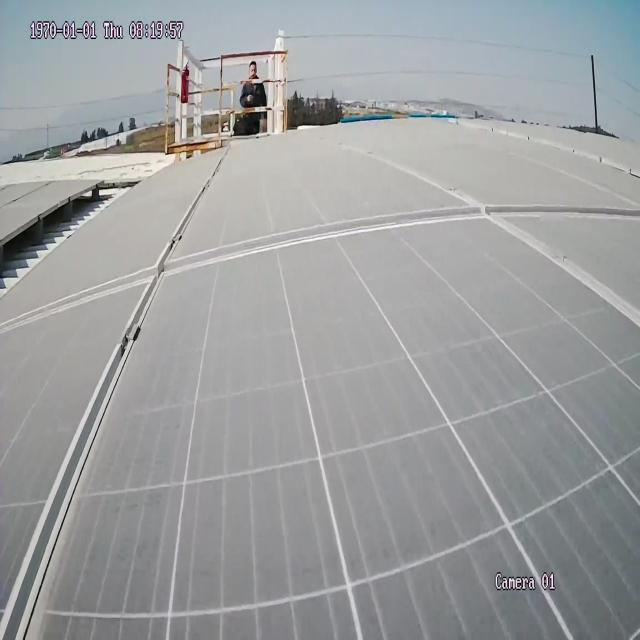interior panel: (0, 133, 640, 640)
outher panel: (0, 178, 144, 319)
